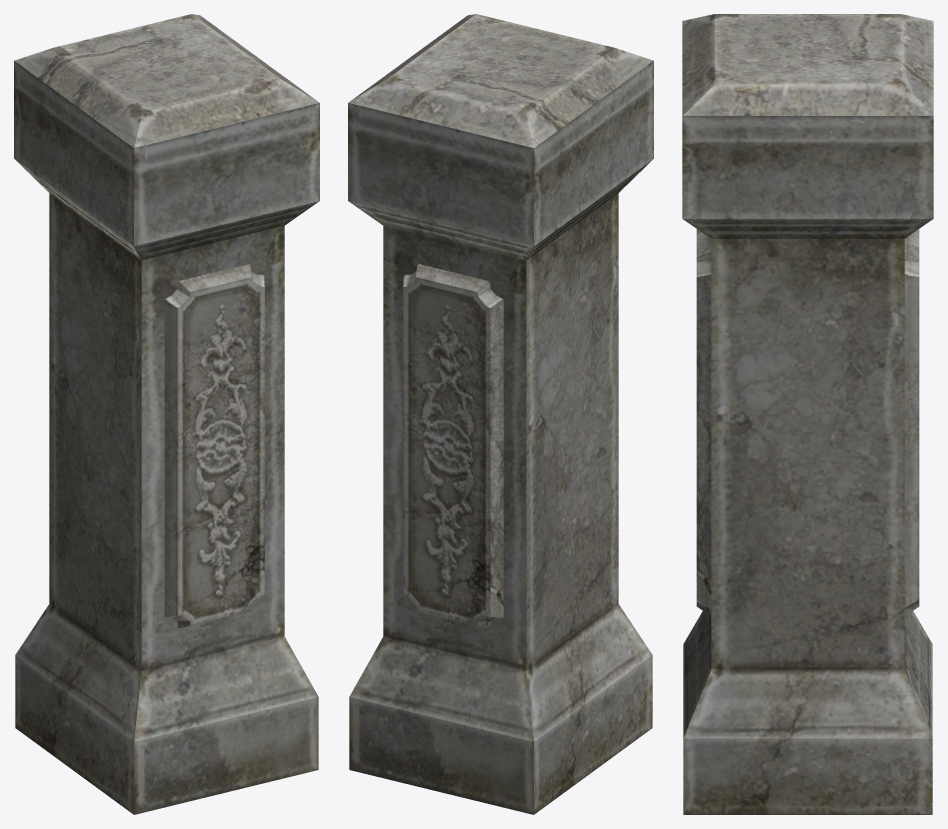
File: bg_lut_lucastle_fence03_sm_lkj.FBX
The picture shows the model from 3 angles, left to right: view 1: azimuth 30°, elevation 25°; view 2: azimuth 150°, elevation 25°; view 3: azimuth 270°, elevation 25°; orthographic projection. The views are drawn at different scales.
Parts seen in each view (by area): view 1: bg_lut_lucastle_fence03_sm_lkj; view 2: bg_lut_lucastle_fence03_sm_lkj; view 3: bg_lut_lucastle_fence03_sm_lkj.
Part boxes in pixels (x1,y1,x2,y2): bg_lut_lucastle_fence03_sm_lkj: (14, 14, 319, 814); bg_lut_lucastle_fence03_sm_lkj: (348, 14, 653, 814); bg_lut_lucastle_fence03_sm_lkj: (682, 14, 933, 814).
Size of the model in its own units: 28.72 by 101 by 32.03.
